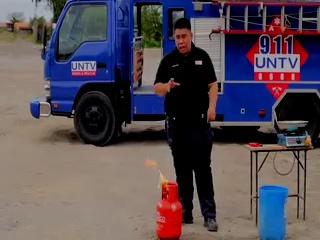Fire: (141, 148, 169, 192)
